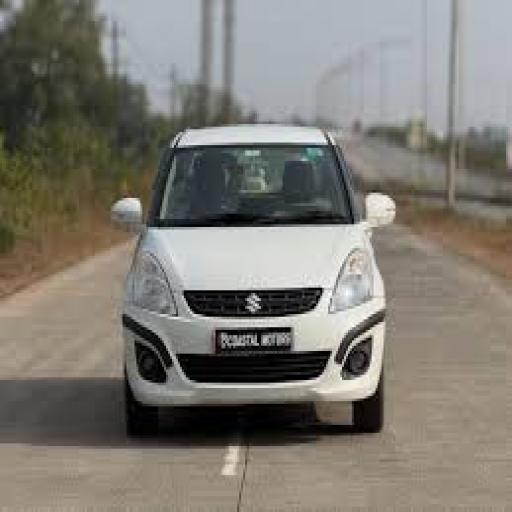License: (212, 324, 298, 358)
